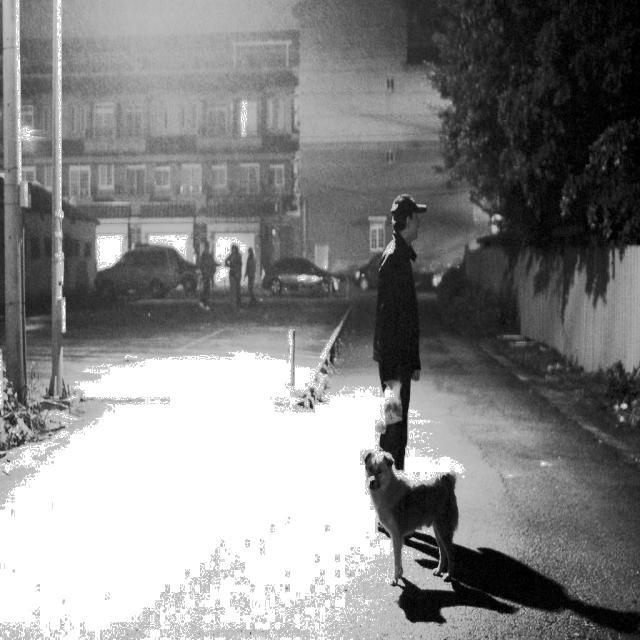Dog: (337, 417, 504, 622)
Person: (383, 156, 442, 458)
